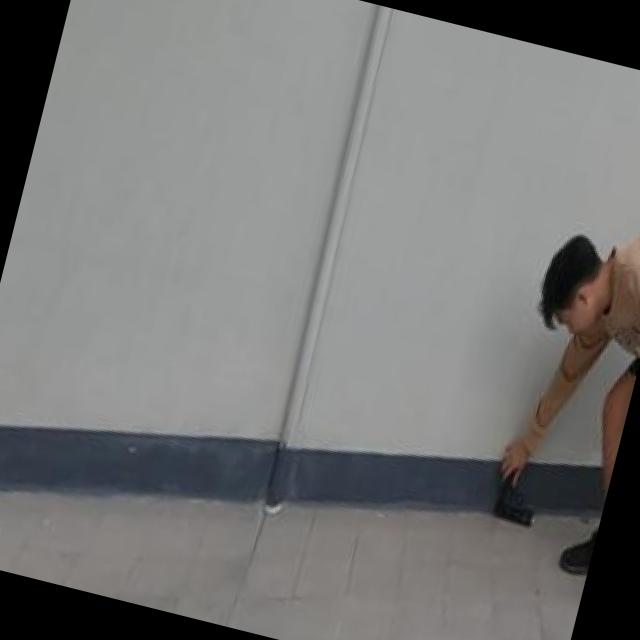Guns: (483, 458, 550, 544)
